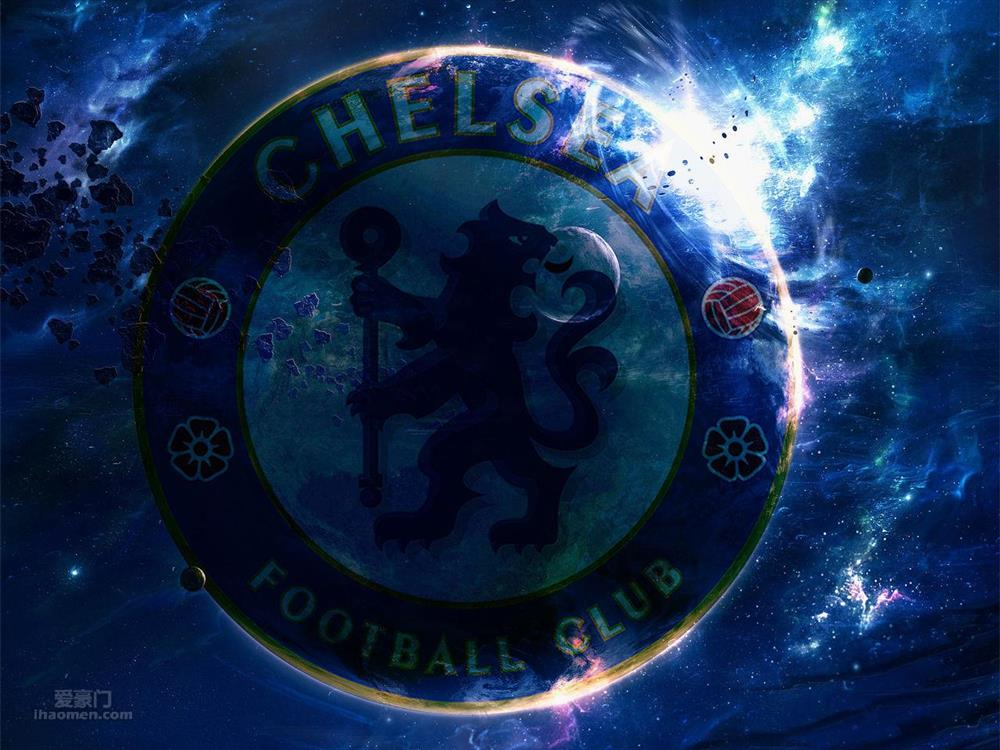chelsea: (155, 56, 799, 699)
